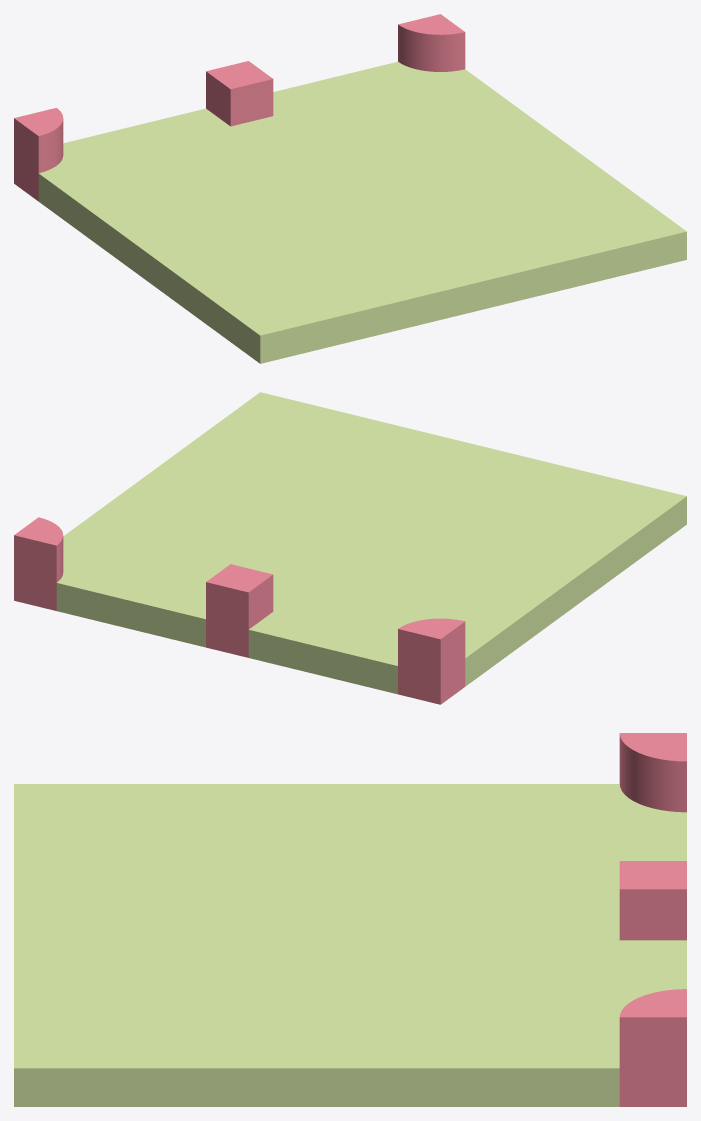
Rendered from splitWallsToOpen.fbx.
3 renders of one model, top to bottom at view 1: azimuth 30°, elevation 25°; view 2: azimuth 150°, elevation 25°; view 3: azimuth 270°, elevation 25°, orthographic. The views are drawn at different scales.
Parts seen in each view (by area): view 1: splitWallsToOpen; view 2: splitWallsToOpen; view 3: splitWallsToOpen.
Boxes of the visible parts, box(x1,y1,x2,y2) form: splitWallsToOpen: box(14, 14, 686, 363); splitWallsToOpen: box(14, 392, 686, 704); splitWallsToOpen: box(14, 733, 686, 1106).
Bounding box in the file's own units: 99.99 × 14.67 × 99.99.
